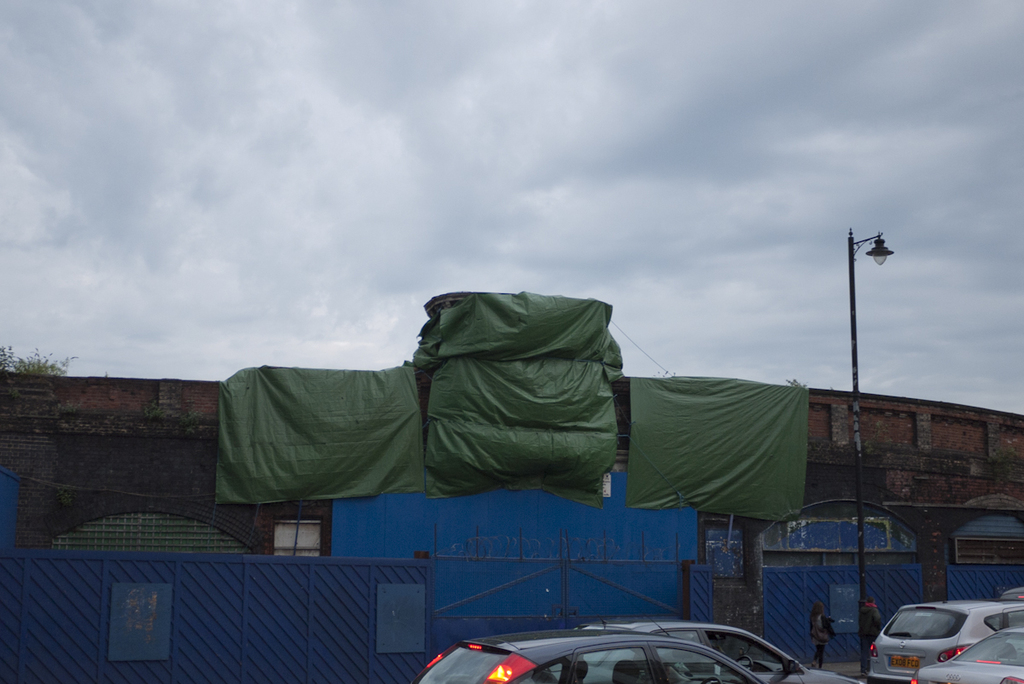Car: (410, 620, 766, 683), (552, 620, 872, 683), (860, 597, 1023, 683), (907, 627, 1023, 683)
